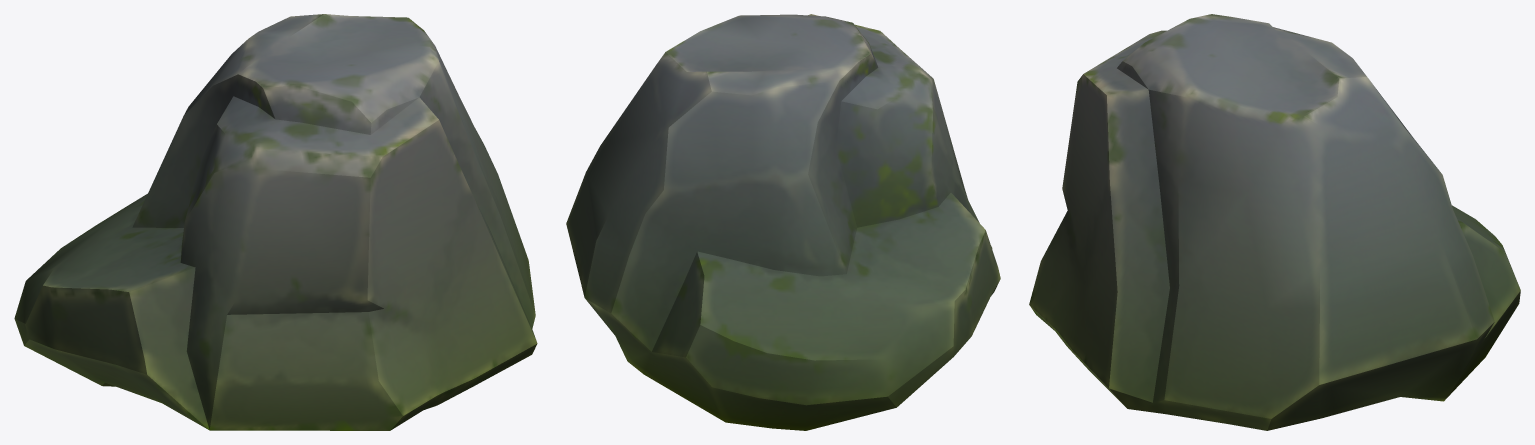
The model's file is rock_b.gltf.
3 renders of one model, left to right at view 1: azimuth 30°, elevation 25°; view 2: azimuth 150°, elevation 25°; view 3: azimuth 270°, elevation 25°, orthographic. The views are drawn at different scales.
Visible parts, largest first — view 1: Rock_Medium_1; view 2: Rock_Medium_1; view 3: Rock_Medium_1.
Boxes of the visible parts, x1,y1,x2,y2 form: Rock_Medium_1: (14, 14, 537, 430); Rock_Medium_1: (566, 14, 1000, 430); Rock_Medium_1: (1029, 14, 1520, 430).
Bounding box in the file's own units: 3.23 × 2.26 × 2.99.
1 material, 1 textured.
